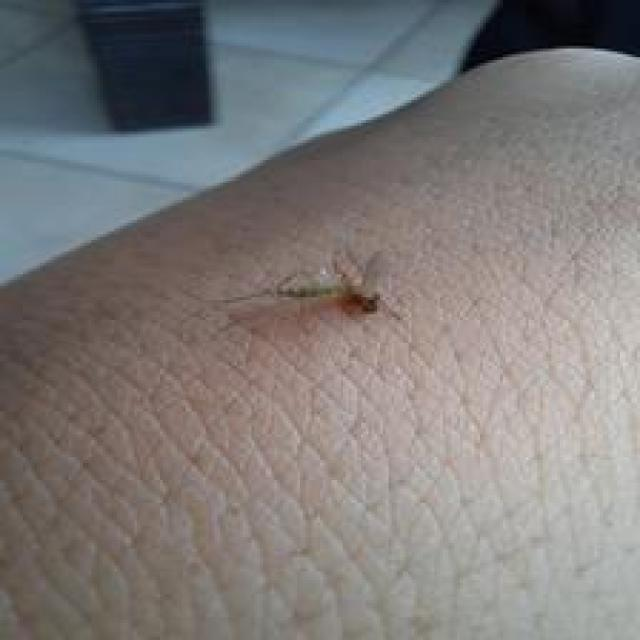Culex: (218, 246, 402, 323)
